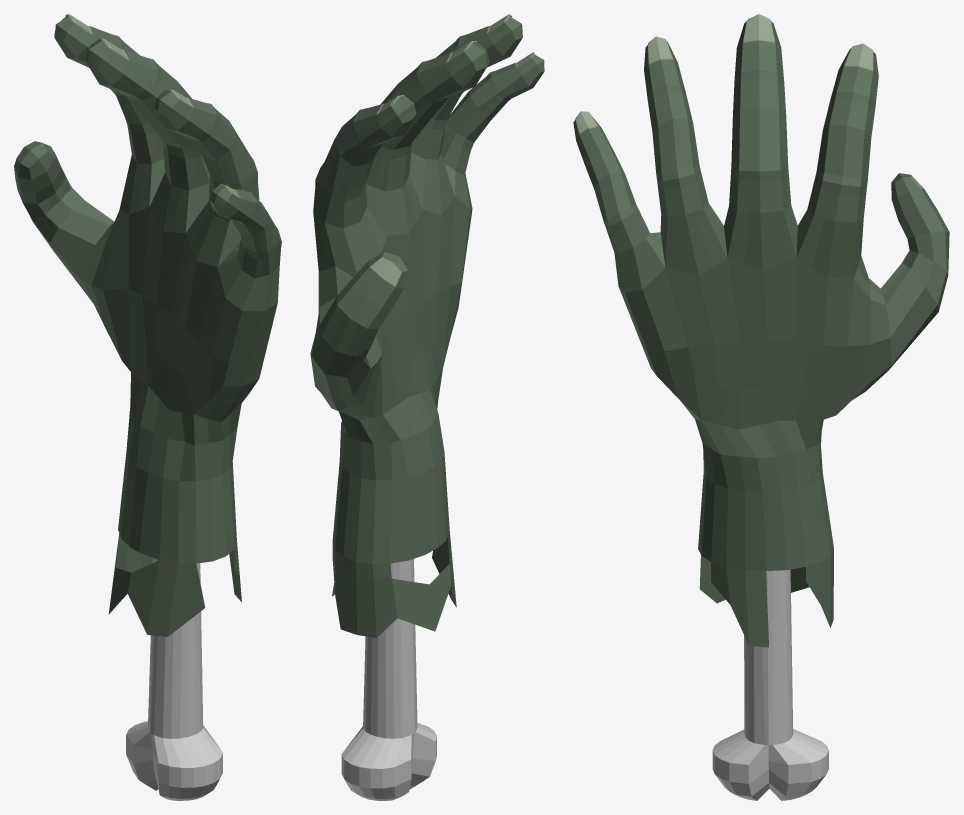
File: ZombieHand_Dirt.fbx
3 views of the same model, side by side, from view 1: azimuth 30°, elevation 25°; view 2: azimuth 150°, elevation 25°; view 3: azimuth 270°, elevation 25° (orthographic). The views are drawn at different scales.
Parts seen in each view (by area): view 1: Bone Hand; view 2: Bone Hand; view 3: Bone Hand.
Part boxes in pixels (x1=…): Bone Hand: x1=14, y1=14, x2=281, y2=800; Bone Hand: x1=310, y1=14, x2=544, y2=800; Bone Hand: x1=573, y1=14, x2=949, y2=800.
Bounding box in the file's own units: 103 × 499 × 228.
